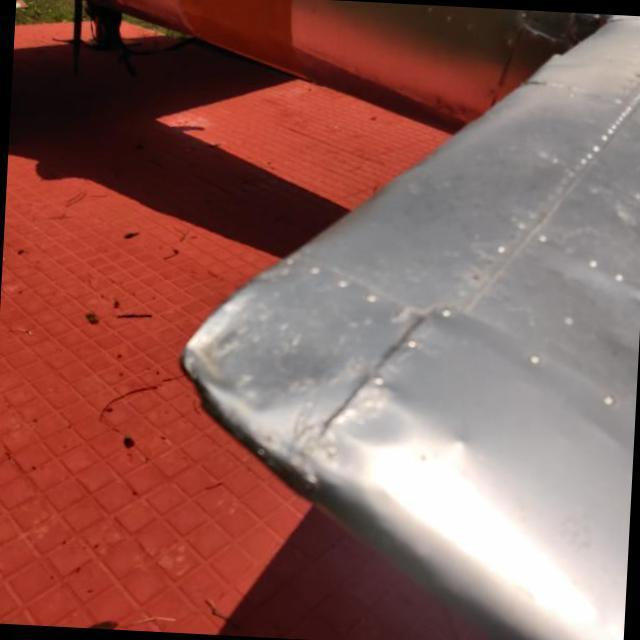Dent: (148, 260, 331, 427)
